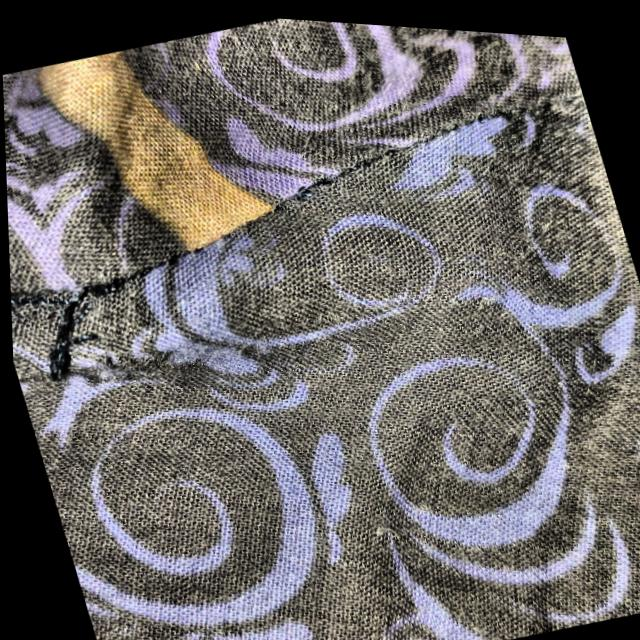Stitch: (7, 234, 153, 431)
